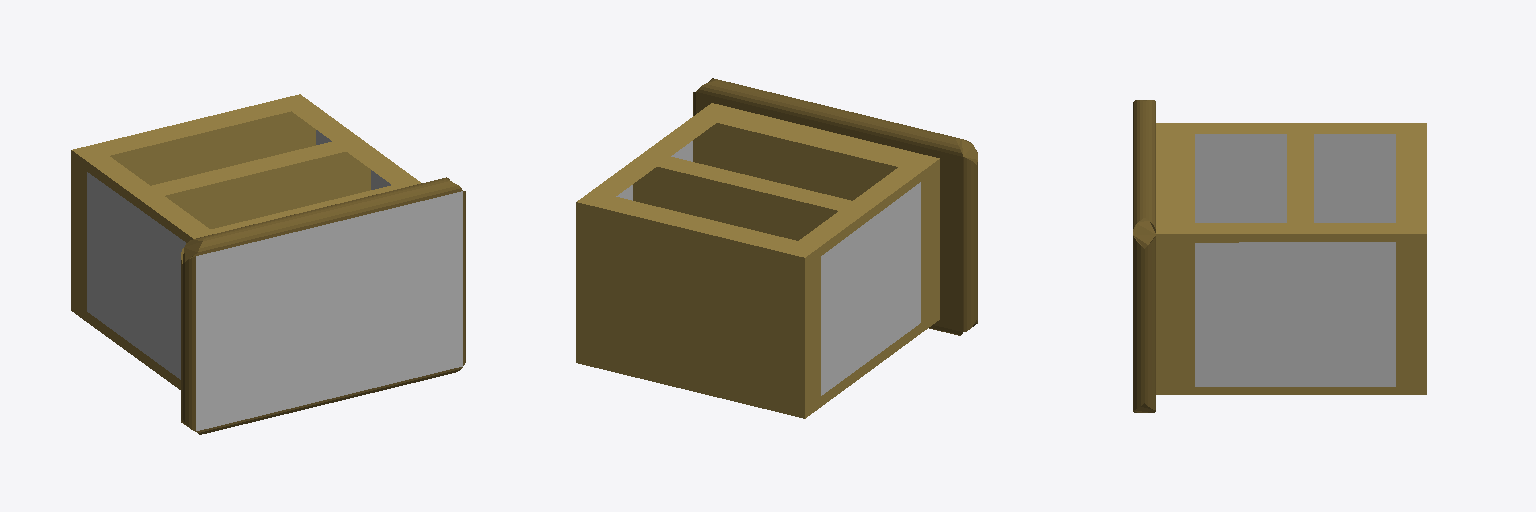
3 views of the same model, side by side, from view 1: azimuth 30°, elevation 25°; view 2: azimuth 150°, elevation 25°; view 3: azimuth 270°, elevation 25° (orthographic).
Parts seen in each view (by area): view 1: Cubo.003_Material.002, Cubo.003_Material.004, Cubo.003_Material.003, Cubo.003_Material.001; view 2: Cubo.003_Material.004, Cubo.003_Material.003, Cubo.003_Material.001; view 3: Cubo.003_Material.003, Cubo.003_Material.004, Cubo.003_Material.001.
Boxes of the visible parts, x1,y1,x2,y2 form: Cubo.003_Material.002: [196, 191, 462, 430]; Cubo.003_Material.004: [71, 94, 420, 389]; Cubo.003_Material.003: [87, 130, 390, 379]; Cubo.003_Material.001: [181, 177, 465, 434]; Cubo.003_Material.004: [576, 103, 939, 418]; Cubo.003_Material.003: [616, 141, 920, 395]; Cubo.003_Material.001: [693, 78, 977, 335]; Cubo.003_Material.003: [1195, 134, 1395, 386]; Cubo.003_Material.004: [1156, 123, 1426, 394]; Cubo.003_Material.001: [1133, 100, 1155, 412].
Size of the model in its own units: 3.69 by 2.41 by 3.34.
4 materials, 2 textured.